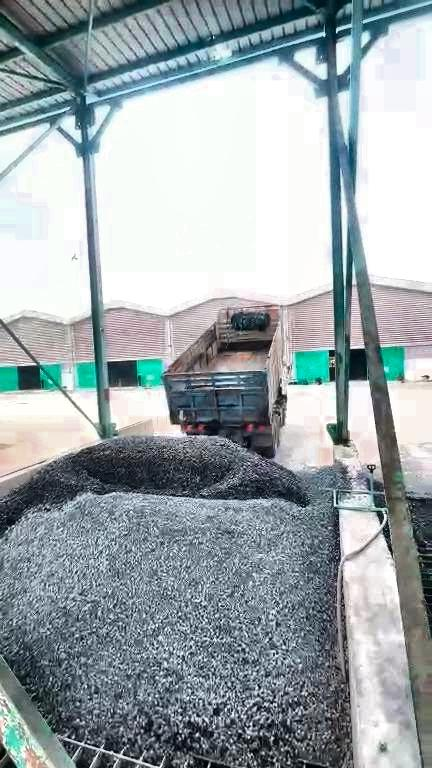gravel: (1, 437, 354, 767), (408, 489, 432, 553)
